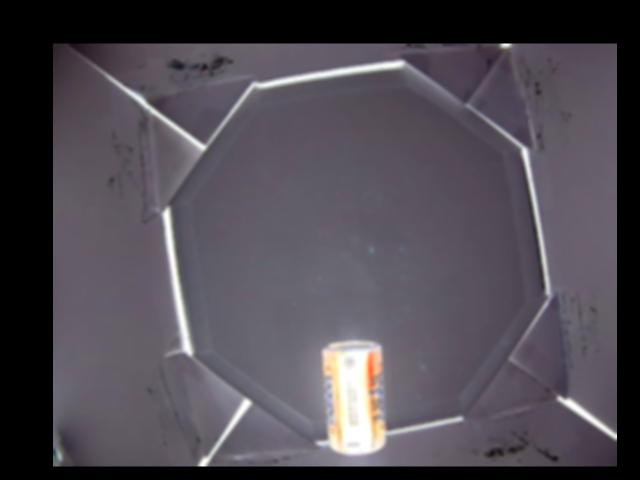Battery: (323, 340, 386, 453)
